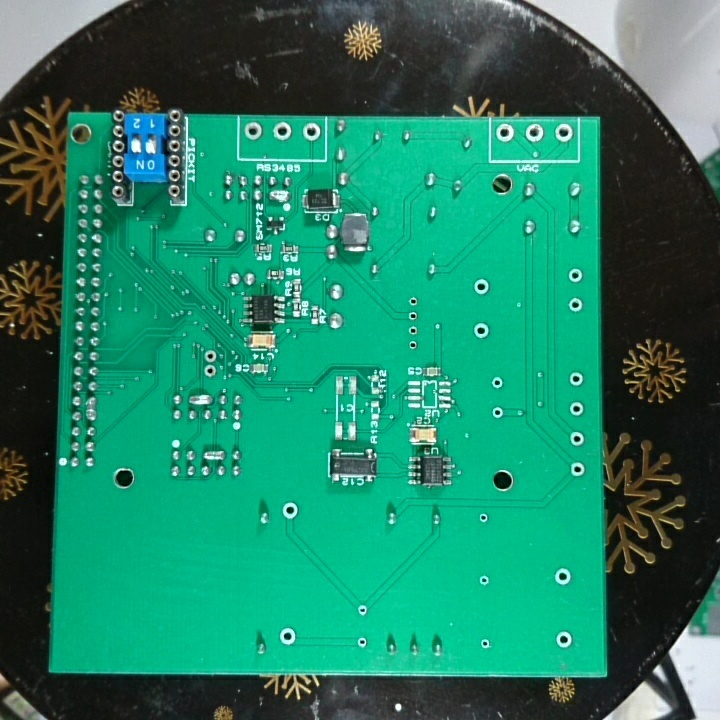F: (241, 120, 266, 143), (551, 123, 575, 146), (523, 121, 545, 146), (495, 121, 516, 143), (552, 566, 573, 588), (554, 629, 574, 652), (300, 122, 321, 143), (271, 120, 291, 142), (277, 626, 298, 646), (472, 276, 491, 298), (281, 500, 299, 523), (471, 320, 491, 340), (566, 295, 585, 315), (568, 429, 586, 449), (568, 459, 586, 479), (567, 369, 585, 388), (566, 266, 583, 286), (568, 399, 585, 418), (488, 375, 506, 392), (354, 633, 370, 652), (201, 363, 220, 379), (202, 347, 219, 364), (490, 405, 505, 423), (355, 602, 370, 618), (477, 572, 491, 589), (477, 509, 490, 527), (405, 308, 420, 323), (405, 336, 418, 353), (405, 323, 419, 338), (478, 635, 490, 652), (406, 295, 419, 307)
P: (265, 187, 293, 205), (186, 391, 214, 408), (83, 395, 99, 423), (199, 449, 228, 463)
